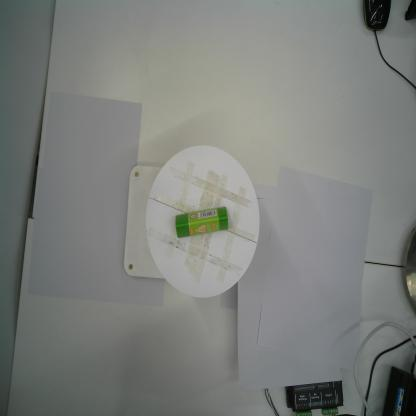Stationery: (175, 207, 228, 238)
